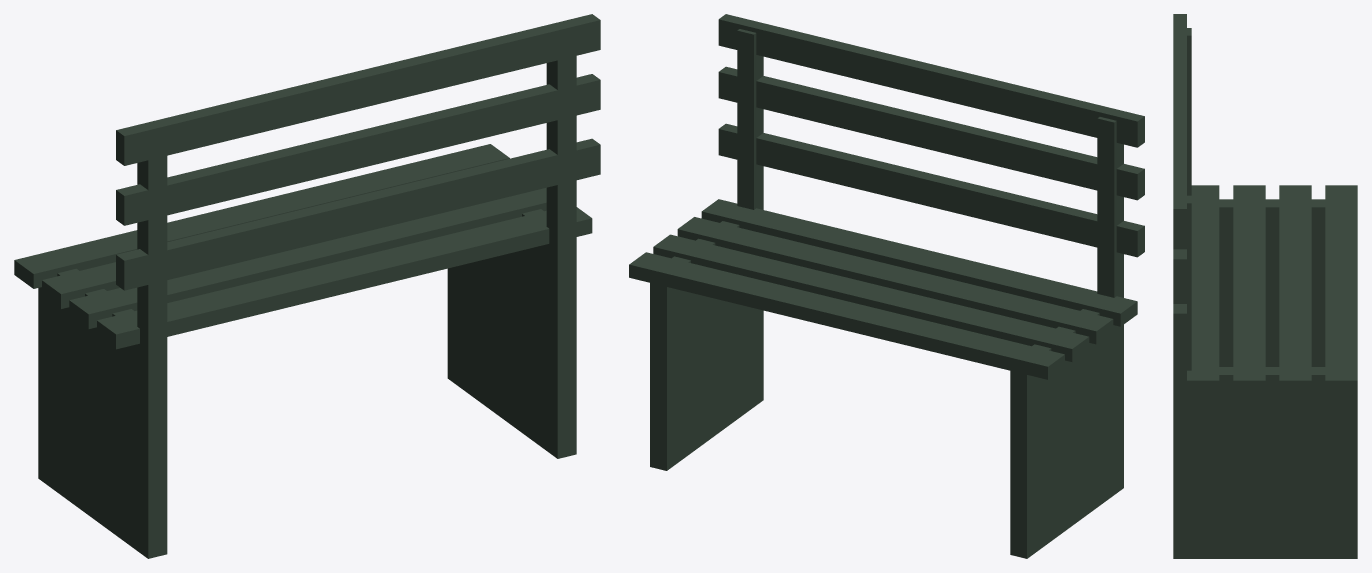
Rendered from f_metal_bench.glb.
3 views of the same model, side by side, from view 1: azimuth 30°, elevation 25°; view 2: azimuth 150°, elevation 25°; view 3: azimuth 270°, elevation 25° (orthographic). The views are drawn at different scales.
Parts seen in each view (by area): view 1: block_leg-0.45, block_leg0.41, block_back0.8, block_back0.55, block_back0.68, block_seat0.1, block_seat0, block_seat-0.2, block_back-post-0.45, block_back-post0.41, block_seat-0.1; view 2: block_leg-0.45, block_leg0.41, block_back0.8, block_back0.55, block_back0.68, block_seat-0.2, block_seat-0.1, block_seat0, block_seat0.1, block_back-post-0.45, block_back-post0.41; view 3: block_leg0.41, block_leg-0.45, block_seat-0.2, block_seat-0.1, block_seat0, block_seat0.1, block_back0.8, block_back-post0.41, block_back-post-0.45, block_back0.68, block_back0.55.
Part boxes in pixels (x1=…): block_leg-0.45: x1=38, y1=268, x2=167, y2=558; block_leg0.41: x1=447, y1=209, x2=576, y2=458; block_back0.8: x1=116, y1=14, x2=600, y2=165; block_back0.55: x1=116, y1=138, x2=600, y2=290; block_back0.68: x1=116, y1=74, x2=600, y2=225; block_seat0.1: x1=97, y1=207, x2=592, y2=349; block_seat0: x1=69, y1=187, x2=546, y2=329; block_seat-0.2: x1=14, y1=144, x2=509, y2=288; block_back-post-0.45: x1=137, y1=131, x2=167, y2=339; block_back-post0.41: x1=546, y1=33, x2=576, y2=239; block_seat-0.1: x1=42, y1=262, x2=119, y2=308; block_leg-0.45: x1=1010, y1=295, x2=1123, y2=558; block_leg0.41: x1=650, y1=207, x2=763, y2=470; block_back0.8: x1=718, y1=14, x2=1144, y2=147; block_back0.55: x1=718, y1=123, x2=1144, y2=257; block_back0.68: x1=718, y1=66, x2=1144, y2=200; block_seat-0.2: x1=629, y1=252, x2=1064, y2=379; block_seat-0.1: x1=653, y1=234, x2=1089, y2=361; block_seat0: x1=677, y1=217, x2=1113, y2=344; block_seat0.1: x1=701, y1=199, x2=1137, y2=326; block_back-post-0.45: x1=1097, y1=117, x2=1123, y2=297; block_back-post0.41: x1=737, y1=29, x2=763, y2=209; block_leg0.41: x1=1173, y1=367, x2=1357, y2=558; block_leg-0.45: x1=1219, y1=199, x2=1325, y2=366; block_seat-0.2: x1=1325, y1=185, x2=1357, y2=392; block_seat-0.1: x1=1279, y1=185, x2=1311, y2=392; block_seat0: x1=1233, y1=185, x2=1265, y2=392; block_seat0.1: x1=1187, y1=185, x2=1219, y2=392; block_back0.8: x1=1173, y1=14, x2=1186, y2=233; block_back-post0.41: x1=1173, y1=195, x2=1191, y2=374; block_back-post-0.45: x1=1187, y1=28, x2=1191, y2=195; block_back0.68: x1=1173, y1=249, x2=1186, y2=284; block_back0.55: x1=1173, y1=304, x2=1186, y2=338.
Bounding box in the file's own units: 1 × 0.86 × 0.4.
Materials: 1 (1 with a texture image).
